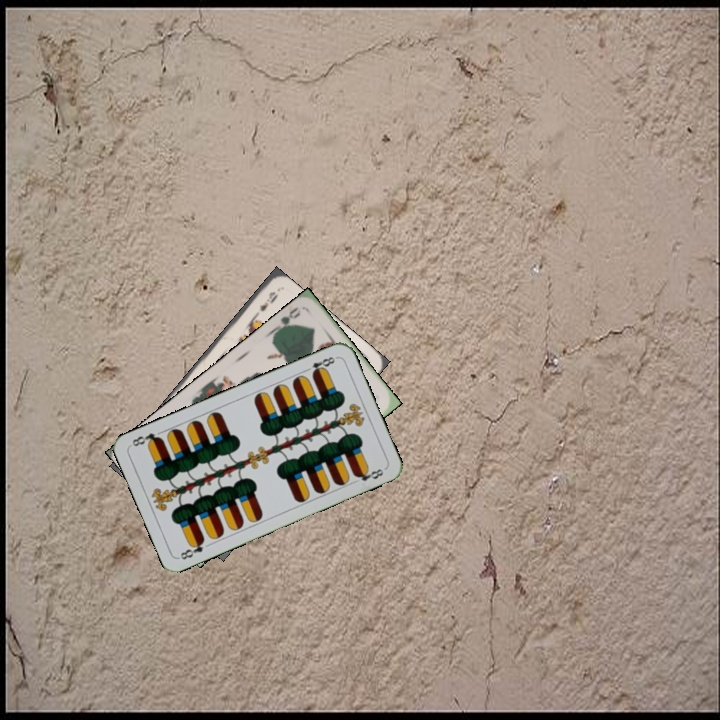E8: (300, 353, 339, 378), (176, 535, 207, 562)
E9: (250, 287, 281, 321)
GO: (269, 303, 303, 335)
